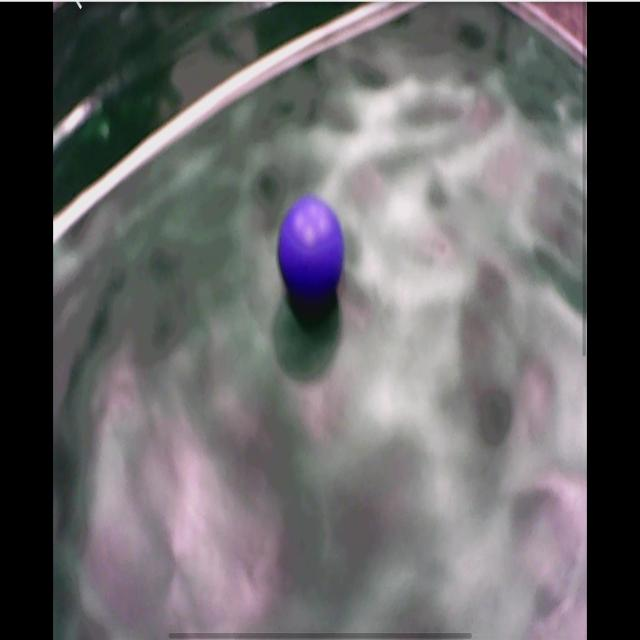ball: (276, 197, 346, 302)
